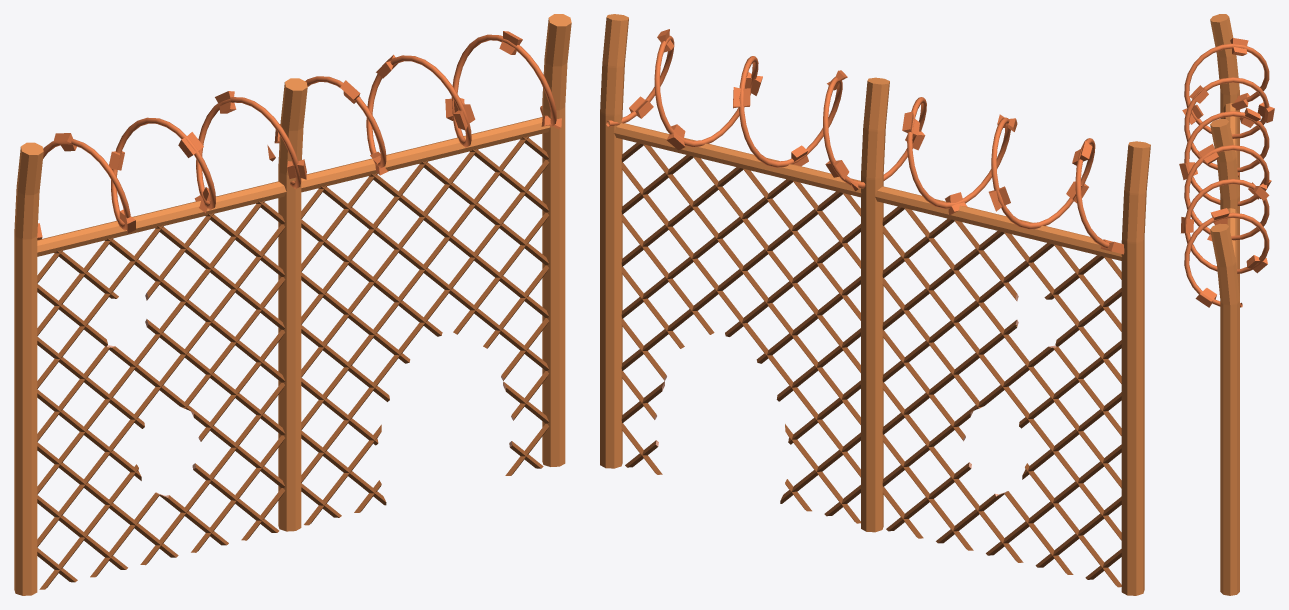
File: Fence_Wire_4_2.fbx
3 renders of one model, left to right at view 1: azimuth 30°, elevation 25°; view 2: azimuth 150°, elevation 25°; view 3: azimuth 270°, elevation 25°, orthographic. The views are drawn at different scales.
Visible parts, largest first — view 1: Fence_Wire_4_2; view 2: Fence_Wire_4_2; view 3: Fence_Wire_4_2.
Part boxes in pixels (<box>): Fence_Wire_4_2: <box>14,14,571,595</box>; Fence_Wire_4_2: <box>600,14,1150,595</box>; Fence_Wire_4_2: <box>1179,14,1274,595</box>.
Bounding box in the file's own units: 385 × 301 × 71.37.
